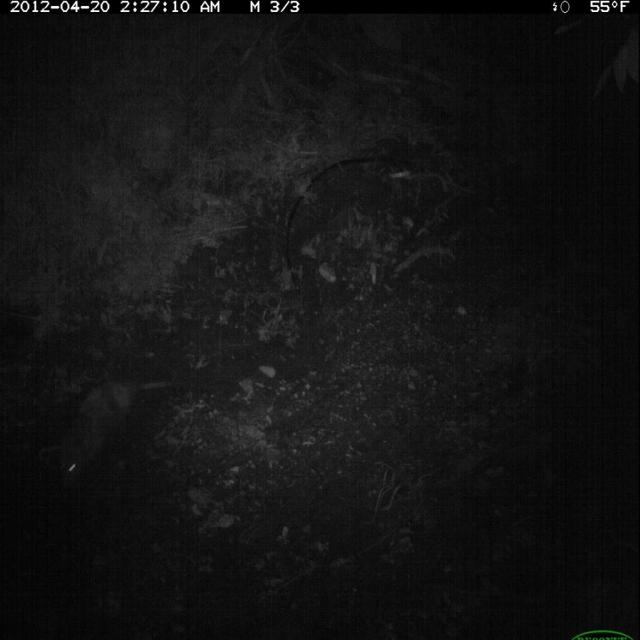opossum: (57, 369, 188, 503)
